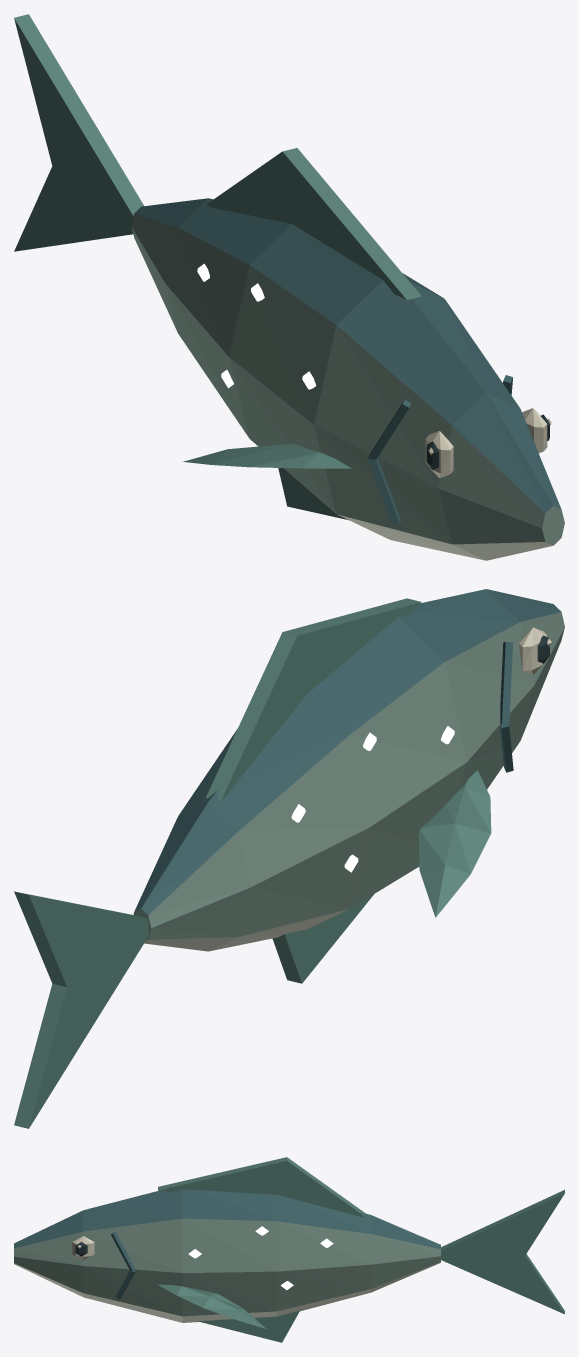
Rendered from fish_fireflytrout.glb.
The picture shows the model from 3 angles, top to bottom: view 1: azimuth 30°, elevation 25°; view 2: azimuth 150°, elevation 25°; view 3: azimuth 270°, elevation 25°; orthographic projection. The views are drawn at different scales.
Parts seen in each view (by area): view 1: fish; view 2: fish, glow; view 3: fish, glow.
Part boxes in pixels (x1=…): fish: x1=14, y1=14, x2=564, y2=560; fish: x1=14, y1=589, x2=564, y2=1128; glow: x1=291, y1=726, x2=454, y2=872; fish: x1=14, y1=1157, x2=564, y2=1342; glow: x1=188, y1=1226, x2=333, y2=1289.
Bounding box in the file's own units: 0.2439 × 0.3156 × 0.8658.
